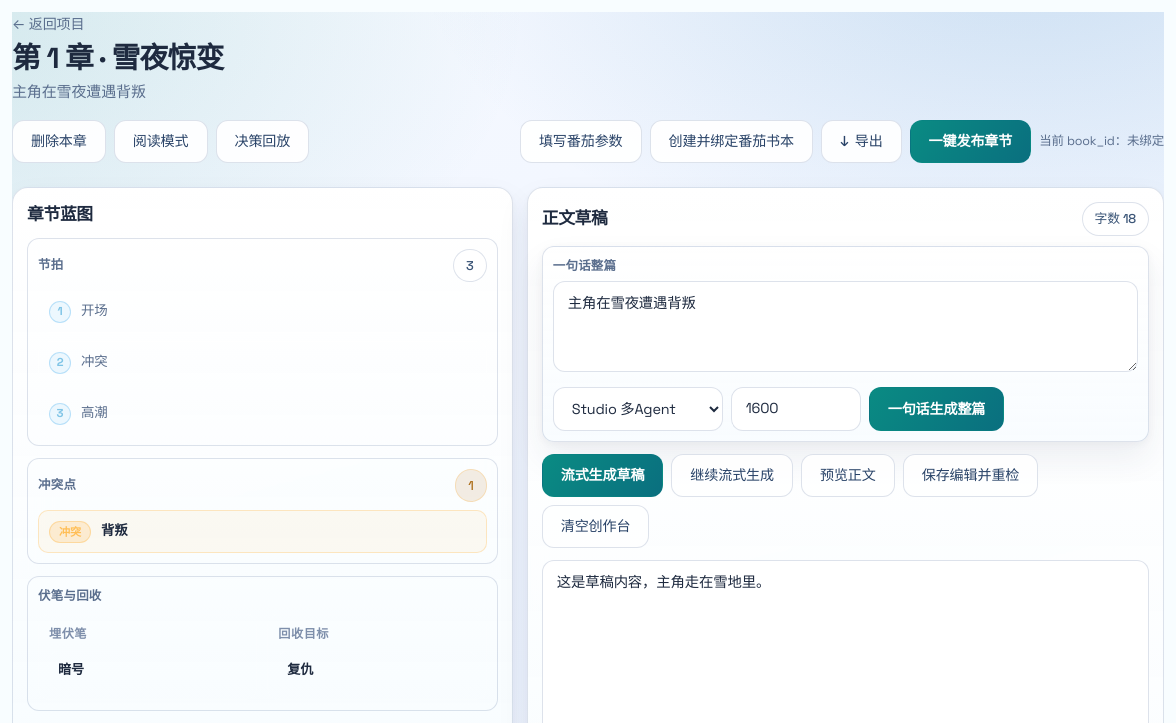
Test: ChapterWorkbenchPage › 默认进入编辑模式并可切换到预览
The image size is (1176, 723).
Click the button "预览正文" at (848, 475), box [801,454,895,497]
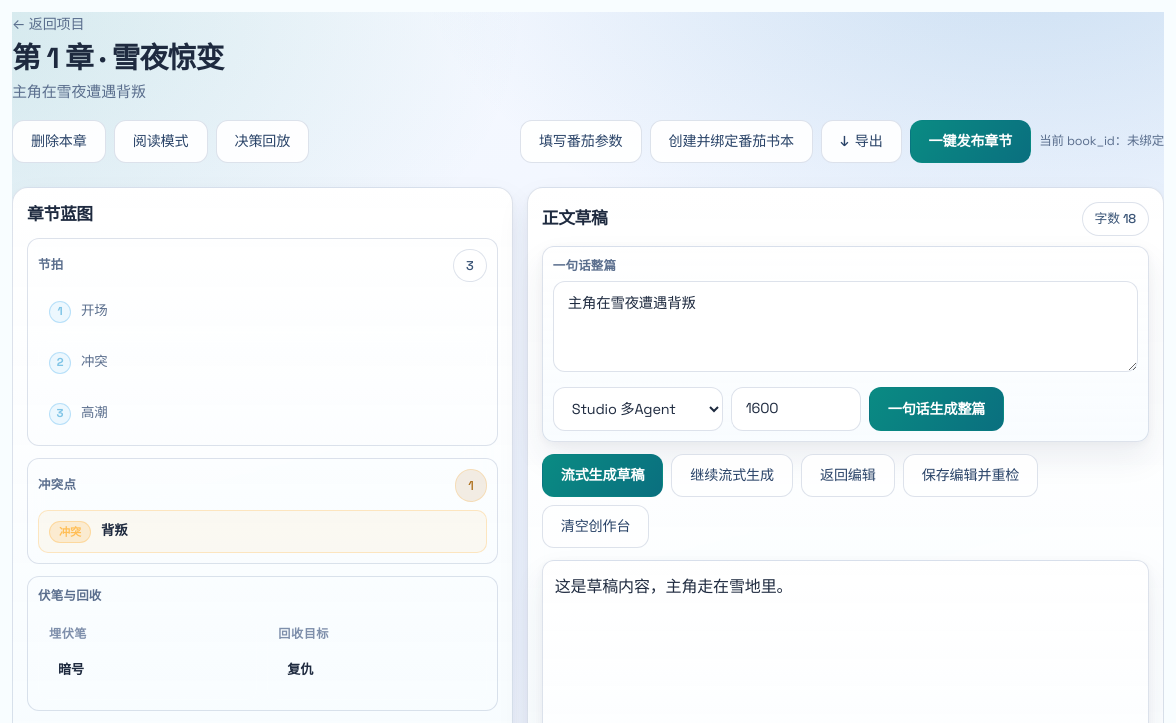
Expected: the button "保存编辑并重检" is shown, [903,454,1038,497]
Now the button "返回编辑" is shown, box [801,454,895,497]
